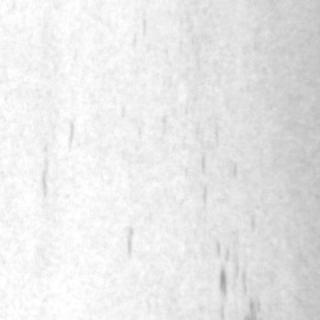inclusion: (208, 232, 262, 316)
